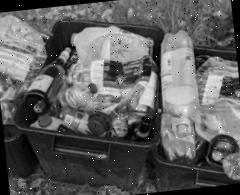glass: (18, 46, 80, 118), (132, 112, 154, 146)
